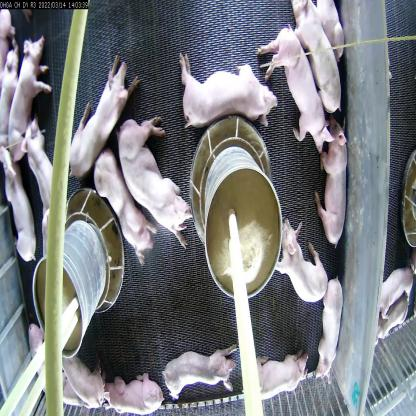Pig: (259, 22, 328, 154), (66, 56, 132, 179), (173, 56, 281, 130), (123, 125, 185, 242), (288, 0, 341, 121), (1, 30, 52, 153), (96, 156, 148, 262), (280, 210, 330, 314), (4, 148, 42, 272), (316, 111, 347, 251), (164, 342, 236, 398), (312, 274, 346, 389), (102, 357, 166, 415), (245, 349, 308, 407), (23, 119, 55, 231), (52, 353, 106, 416)
